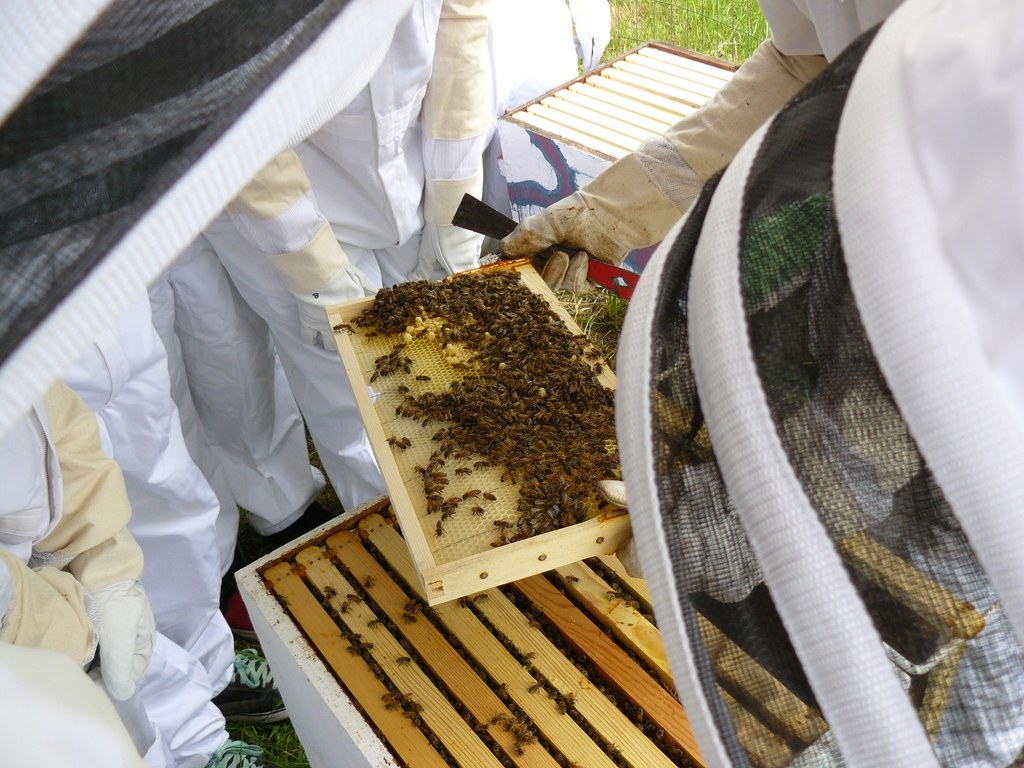bee: (232, 490, 988, 767), (324, 259, 620, 605), (364, 260, 634, 524), (554, 639, 616, 709), (406, 696, 430, 719), (641, 610, 661, 631), (490, 707, 509, 728), (429, 520, 451, 538), (438, 748, 458, 767), (488, 516, 516, 529), (392, 438, 411, 456), (563, 569, 580, 589), (402, 600, 424, 615), (468, 500, 485, 519), (497, 681, 512, 702), (508, 739, 529, 754), (609, 589, 627, 606), (358, 573, 377, 589), (372, 659, 388, 677), (456, 593, 472, 611), (426, 726, 439, 748), (635, 705, 648, 727), (454, 462, 474, 476), (525, 617, 545, 631), (381, 690, 397, 707), (473, 589, 490, 605), (523, 648, 540, 664), (471, 723, 490, 737), (344, 591, 364, 604), (602, 742, 622, 755), (591, 360, 604, 379), (393, 657, 413, 669), (583, 556, 603, 568), (332, 321, 349, 335), (544, 686, 558, 703), (345, 321, 358, 339), (480, 490, 499, 502), (652, 723, 666, 739), (320, 583, 337, 596), (528, 681, 545, 694), (671, 743, 688, 756), (461, 486, 481, 497), (370, 367, 388, 379), (356, 640, 376, 650), (463, 710, 475, 726), (625, 598, 641, 610), (557, 758, 578, 767), (377, 669, 389, 684), (413, 462, 428, 474), (529, 601, 541, 616), (678, 758, 697, 767), (416, 371, 433, 381), (472, 458, 489, 468), (565, 689, 578, 702), (557, 700, 566, 717), (402, 615, 417, 625), (328, 609, 340, 621), (365, 616, 381, 625), (575, 337, 589, 347), (397, 381, 412, 390), (523, 737, 538, 746), (275, 595, 286, 607), (362, 330, 376, 339), (403, 437, 415, 447), (347, 643, 360, 652), (431, 470, 448, 476), (341, 632, 361, 637), (340, 602, 352, 609), (424, 500, 431, 512), (492, 539, 505, 545)
insect: (342, 264, 645, 566)
